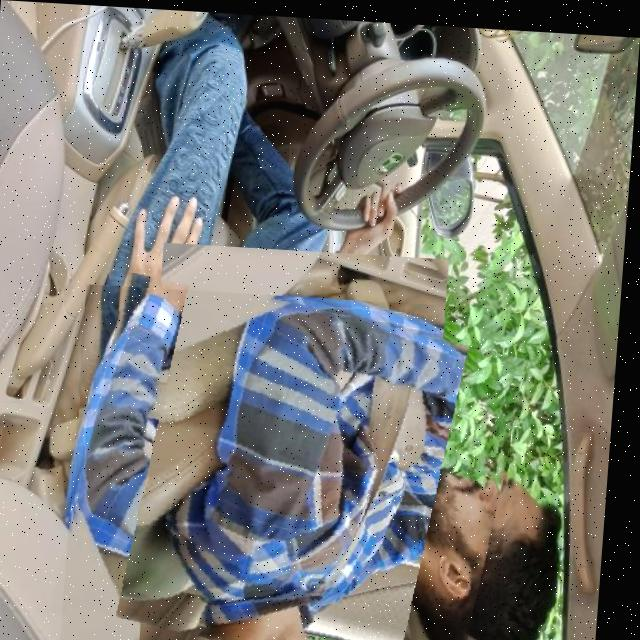seatbelt: (69, 283, 524, 640)
